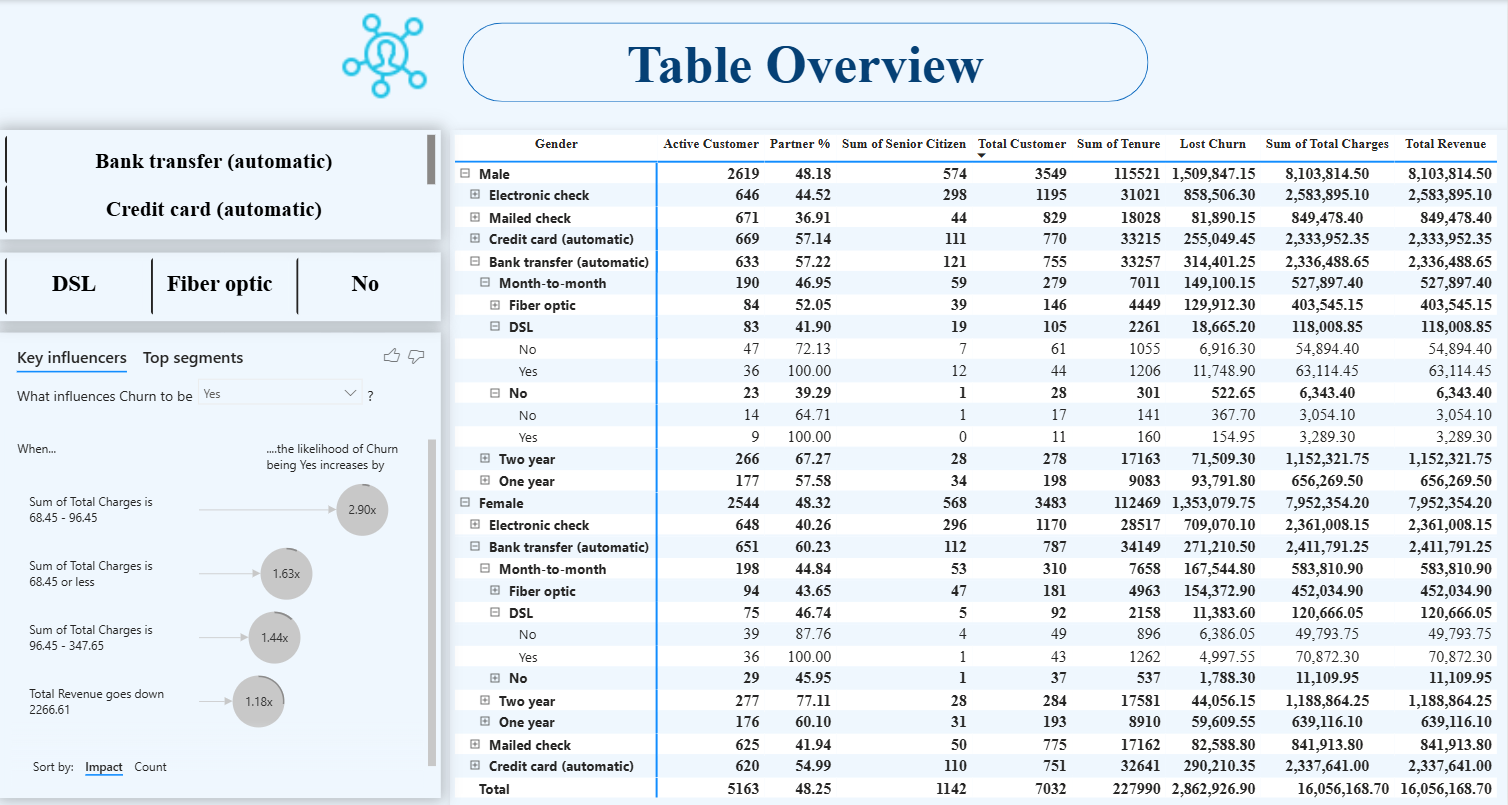

What the dashboard file says about the page in this screenshot:
{"tool":"powerbi","page":{"name":"Table Overview ","canvas":[1510,810],"ordinal":2},"visuals":[{"type":"pivotTable","fields":{"Rows":["Retention Risk Analytics.Gender","Retention Risk Analytics.Payment Method","Retention Risk Analytics.Contract","Retention Risk Analytics.Internet Service","Retention Risk Analytics.Partner"],"Values":["Measure.Active Customer","Measure.Partner %","Sum(Retention Risk Analytics.Senior Citizen)","Measure.Total Customer","Sum(Retention Risk Analytics.Tenure)","Measure.Lost Churn","Sum(Retention Risk Analytics.Total Charges)","Measure.Total Revenue"]},"box":[451.3,130.3,1059,680.4],"z":0},{"type":"shape","box":[463.6,21.9,687.2,79.6],"z":1000},{"type":"keyDriversVisual","fields":{"Target":["Retention Risk Analytics.Churn"],"ExplainBy":["Measure.Total Revenue","Sum(Retention Risk Analytics.Total Charges)"]},"box":[0,333.3,441.7,466.4],"z":2000},{"type":"advancedSlicerVisual","fields":{"Values":["Retention Risk Analytics.Internet Service"]},"box":[0,252.4,441.7,68.6],"z":3000},{"type":"advancedSlicerVisual","fields":{"Values":["Retention Risk Analytics.Payment Method"]},"box":[0,130.3,441.7,109.7],"z":4000},{"type":"image","box":[308.6,9.6,155,91.9],"z":5000}]}

Visuals, with their boxes in screenshot pixels (x1, y1, x2, y2), scaled from the page's 1510x810 canvas onto the 1508x805 screenshot:
pivotTable - Retention Risk Analytics.Gender x Retention Risk Analytics.Payment Method: l=451, t=129, r=1507, b=804
shape: l=463, t=22, r=1149, b=101
keyDriversVisual - Retention Risk Analytics.Churn x Measure.Total Revenue: l=0, t=331, r=441, b=795
advancedSlicerVisual - Retention Risk Analytics.Internet Service: l=0, t=251, r=441, b=319
advancedSlicerVisual - Retention Risk Analytics.Payment Method: l=0, t=129, r=441, b=239
image: l=308, t=10, r=463, b=101
